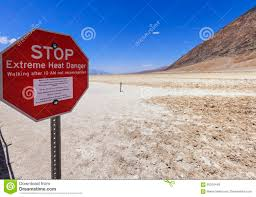Stop: (9, 30, 98, 129)
